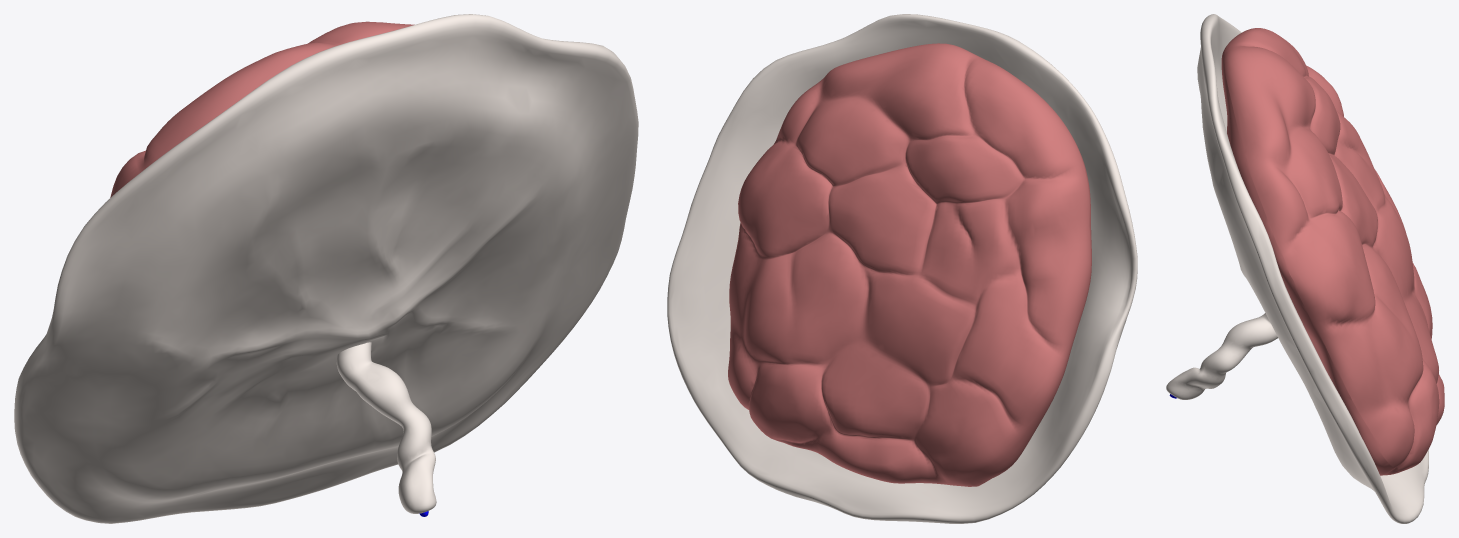
The model's file is placenta.glb.
3 views of the same model, side by side, from view 1: azimuth 30°, elevation 25°; view 2: azimuth 150°, elevation 25°; view 3: azimuth 270°, elevation 25° (orthographic). The views are drawn at different scales.
Parts seen in each view (by area): view 1: VH_F_amnion, VH_F_basal_plate; view 2: VH_F_basal_plate, VH_F_amnion; view 3: VH_F_basal_plate, VH_F_amnion.
Boxes of the visible parts, left/top/right/bottom form: VH_F_amnion: left=14, top=14, right=638, bottom=523; VH_F_basal_plate: left=110, top=21, right=414, bottom=197; VH_F_basal_plate: left=728, top=43, right=1091, bottom=486; VH_F_amnion: left=667, top=14, right=1137, bottom=523; VH_F_basal_plate: left=1221, top=28, right=1444, bottom=475; VH_F_amnion: left=1166, top=14, right=1428, bottom=523.
Size of the model in its own units: 0.2509 by 0.2305 by 0.1338.
